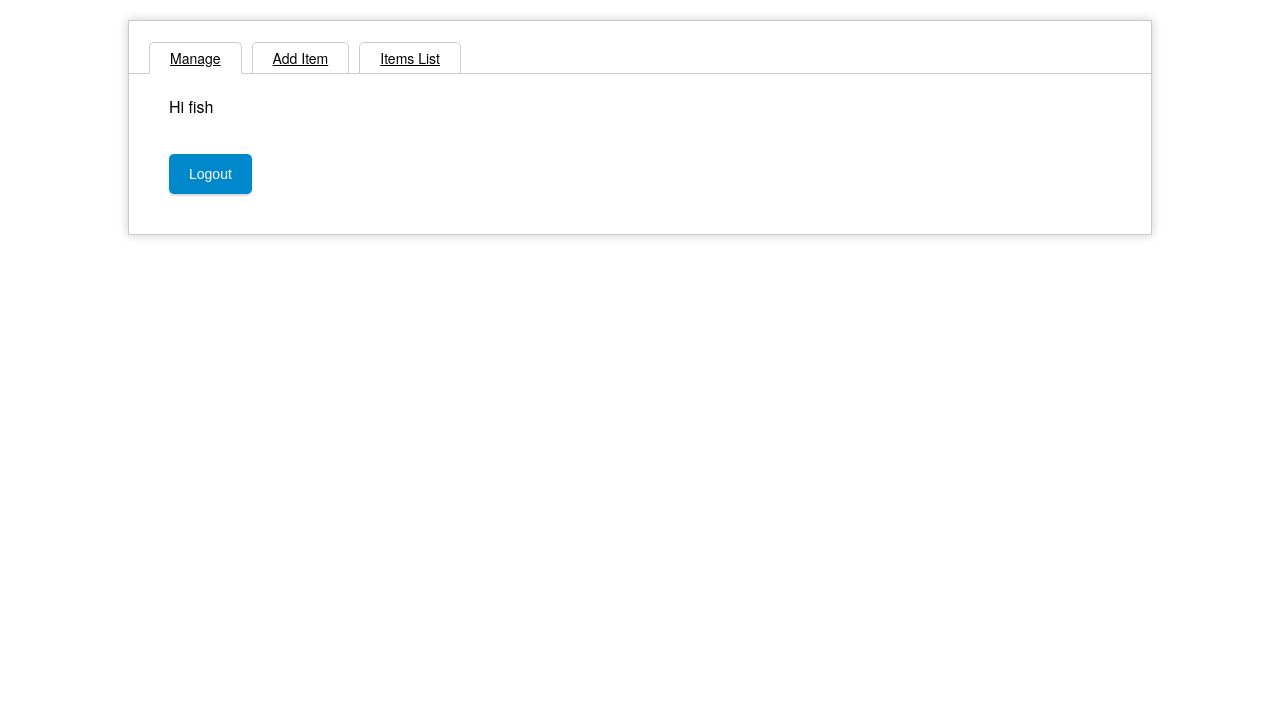
Test: Manage › should switch the active tab and render associated content
Click the list item "Add Item": (300, 58) [252,42,349,74]
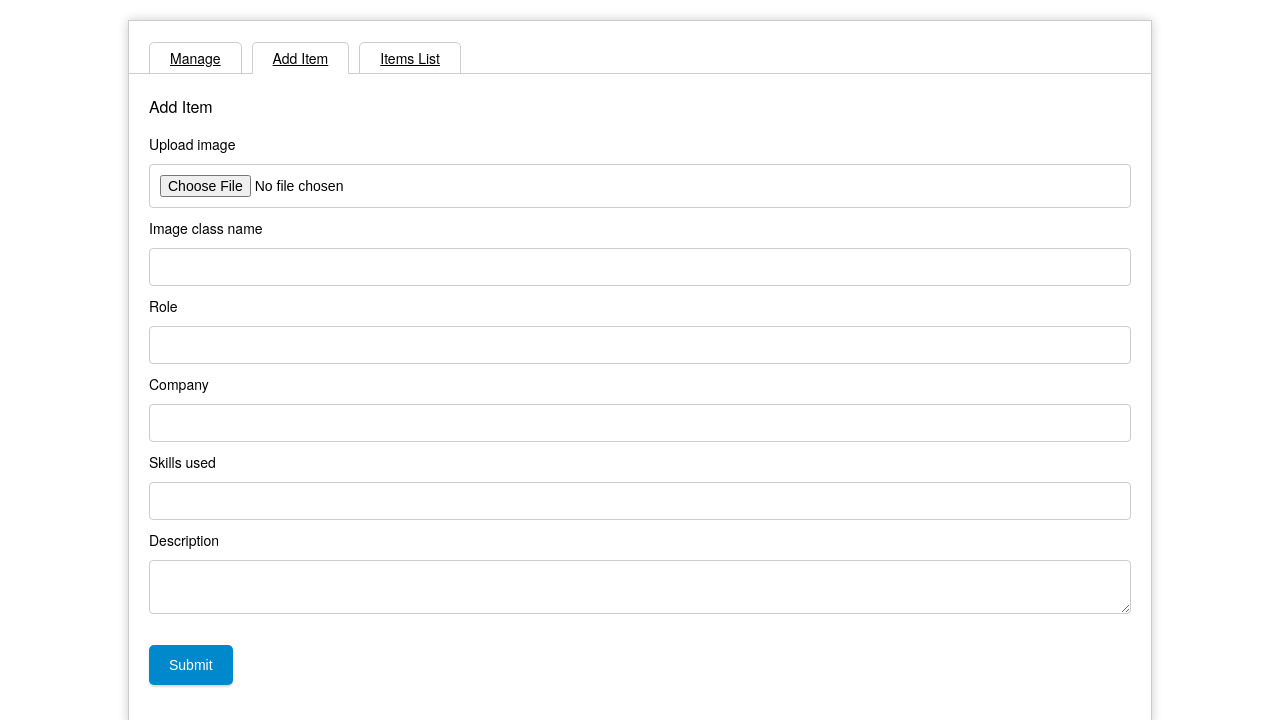
Expected: the element with test id "add-item" is shown
Expected: the element with test id "manage-items" is gone
Click the list item "Items List": (410, 58) [359,42,461,74]
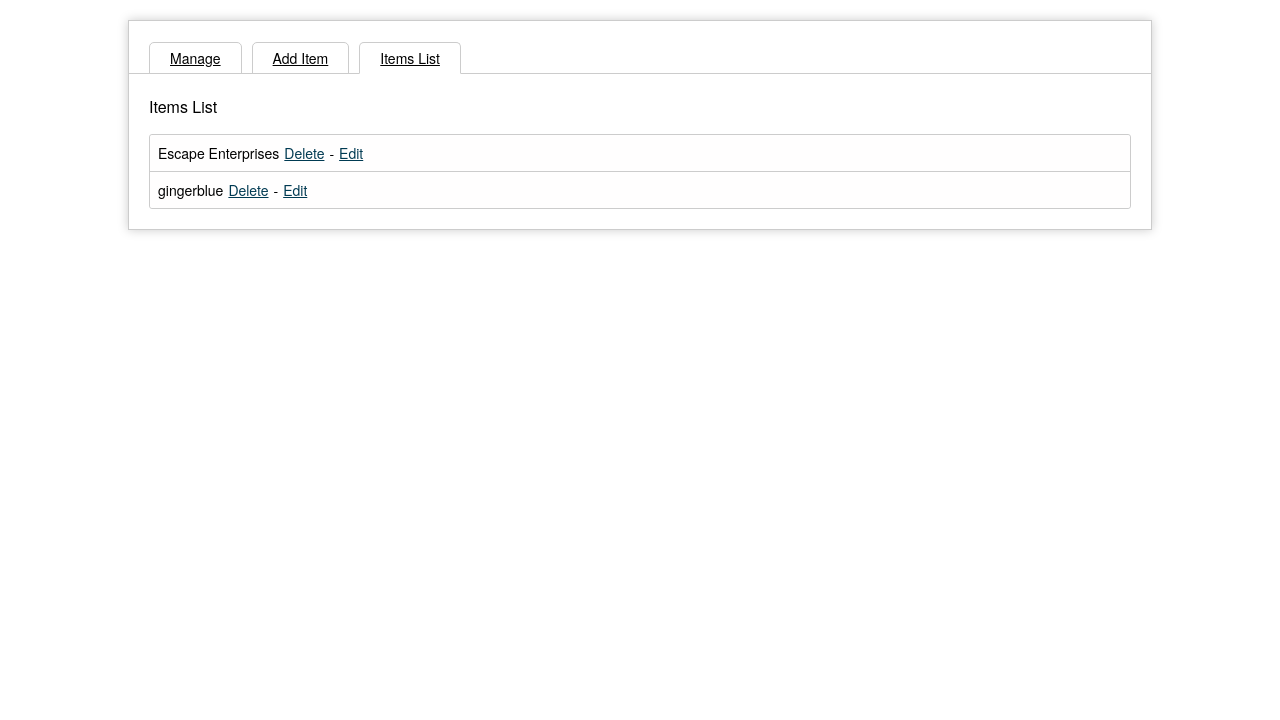
Expected: the element with test id "items-list" is shown, [149,94,1131,209]
Expected: the element with test id "add-item" is gone
Click the list item "Manage": (195, 58) [149,42,242,74]
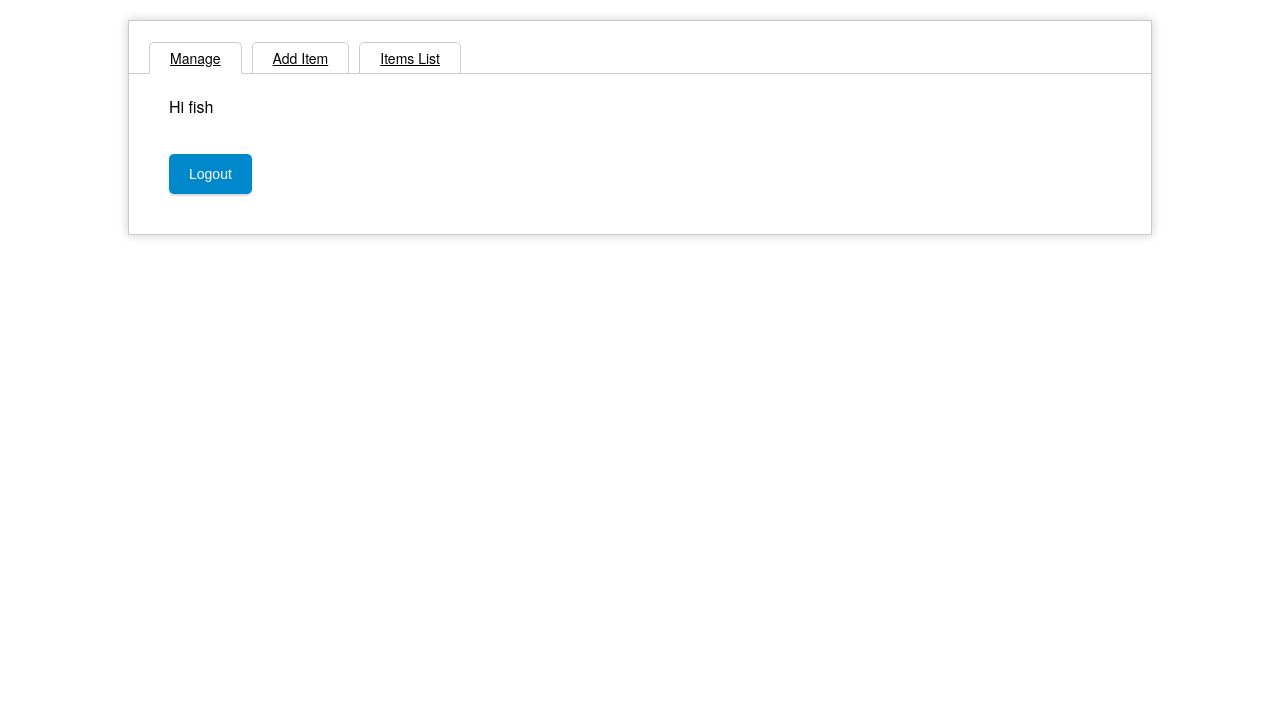
Expected: the element with test id "manage-items" is shown, [169,95,252,194]
Expected: the element with test id "items-list" is gone
